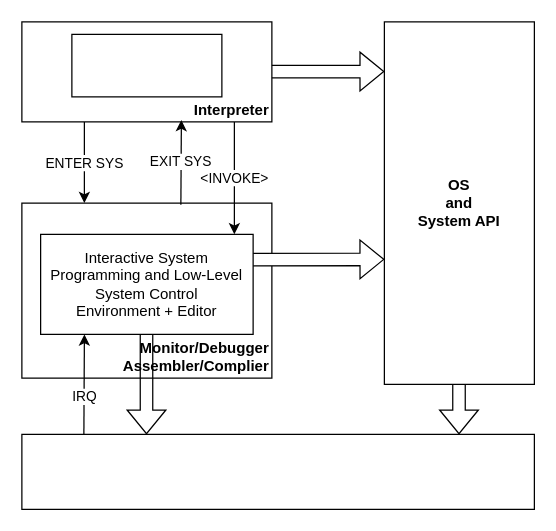
The diagram is 556 pixels wide and 531 high, and some of its shapes have lost their labels. The shapes that lost their labels are listed below. From the top down, each one's centre as x and y in pixels, then its label:
At (146,65): "Interactive High Level Scripting and OS Environment + Editor".
At (277,471): "Hardware (Memory & Registers)".
